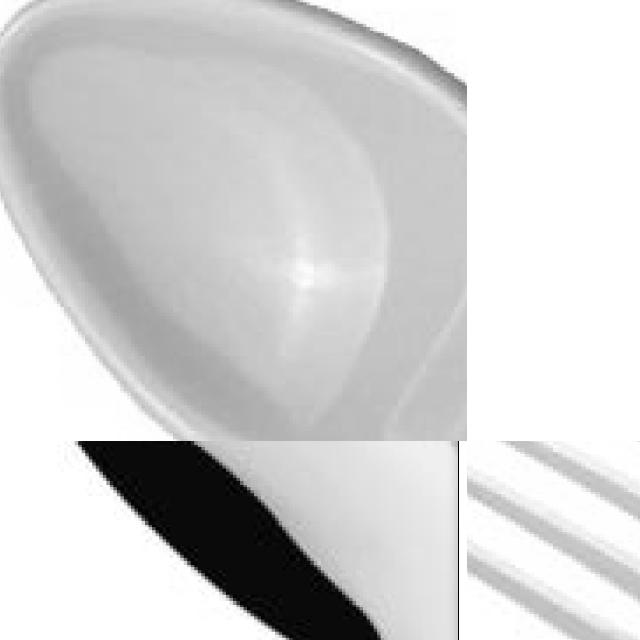forks: (467, 441, 640, 640)
spoons: (0, 0, 467, 441), (0, 441, 467, 640)
